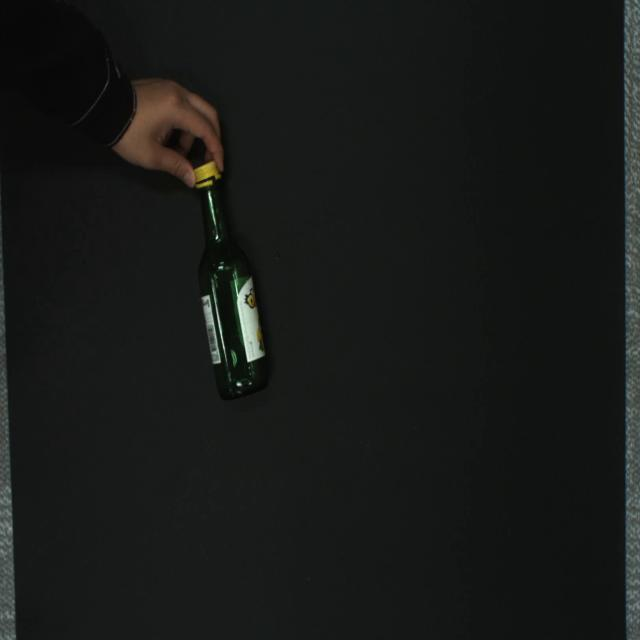soju-bottle: (194, 161, 269, 401)
